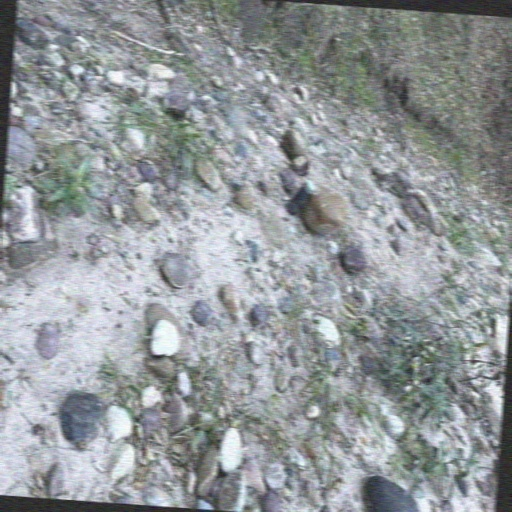bottle: (286, 178, 319, 216)
